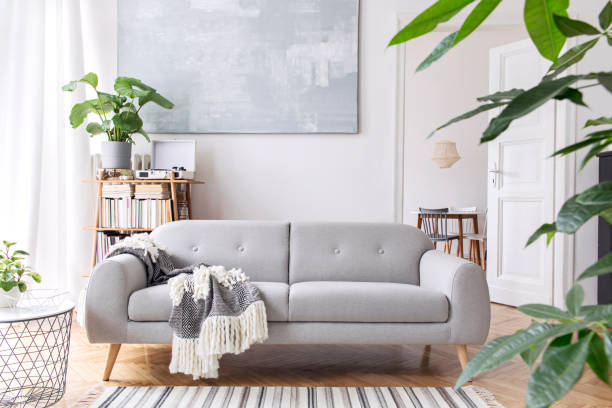small plant: (61, 69, 176, 169), (0, 237, 42, 307)
sofa: (83, 216, 493, 384)
table: (0, 299, 75, 408)
wall art: (114, 0, 361, 135)
